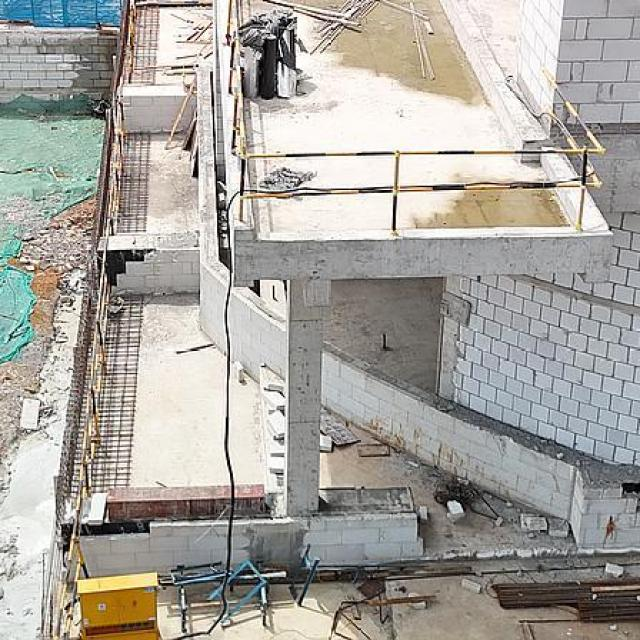edge_guardrail: (225, 0, 606, 236), (51, 0, 142, 640)
